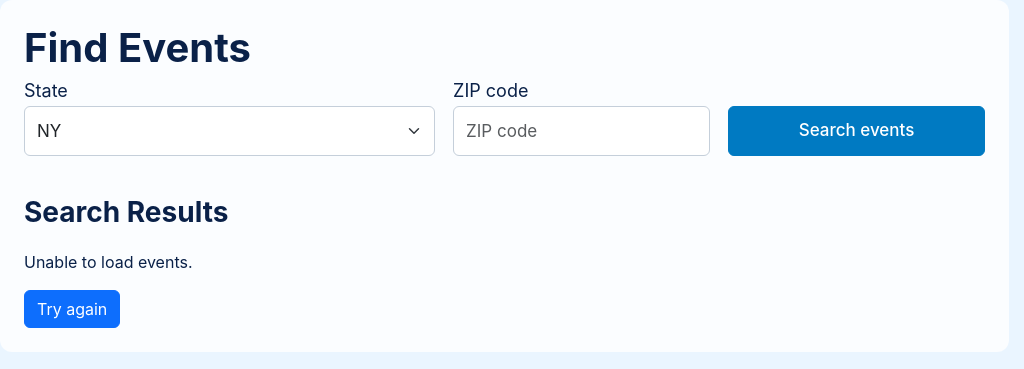
Test: distinguishes an empty result from a failed request and allows retry
Expected: the message shows "Unable to load events.", x1=24 y1=252 x2=192 y2=272
Click the button "Try again".
click(72, 309)  # box x1=24 y1=290 x2=120 y2=328
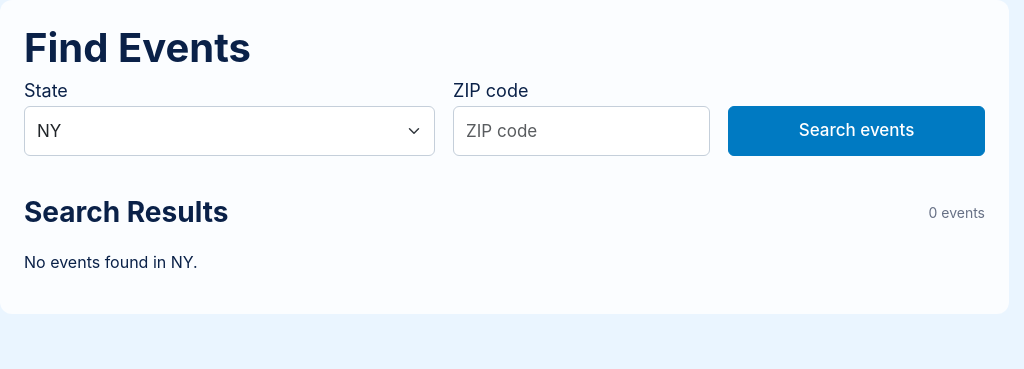
Expected: the text "No events found in NY." is shown, x1=24 y1=252 x2=198 y2=272
Expected: the message "Unable to load events. Try again" is gone
